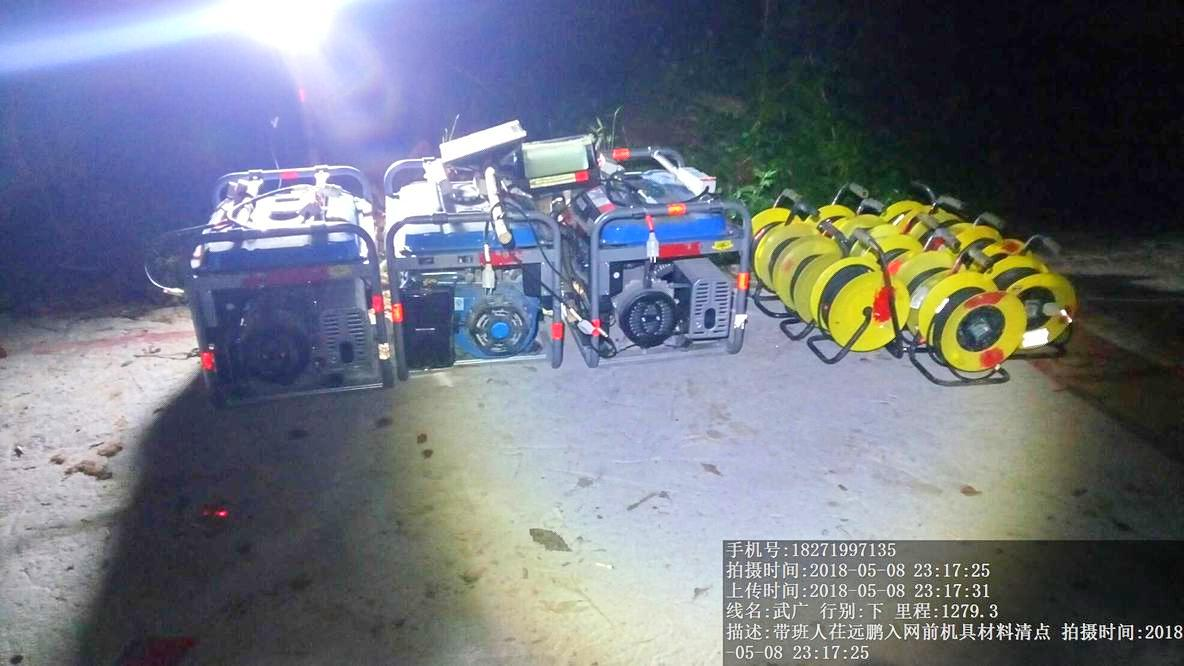DJ: (558, 167, 765, 368), (376, 162, 567, 371)
DX: (917, 273, 1023, 382), (807, 253, 908, 364)
